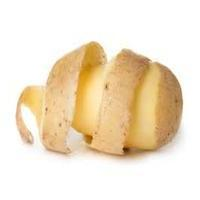biodegradable: (15, 40, 184, 155)
